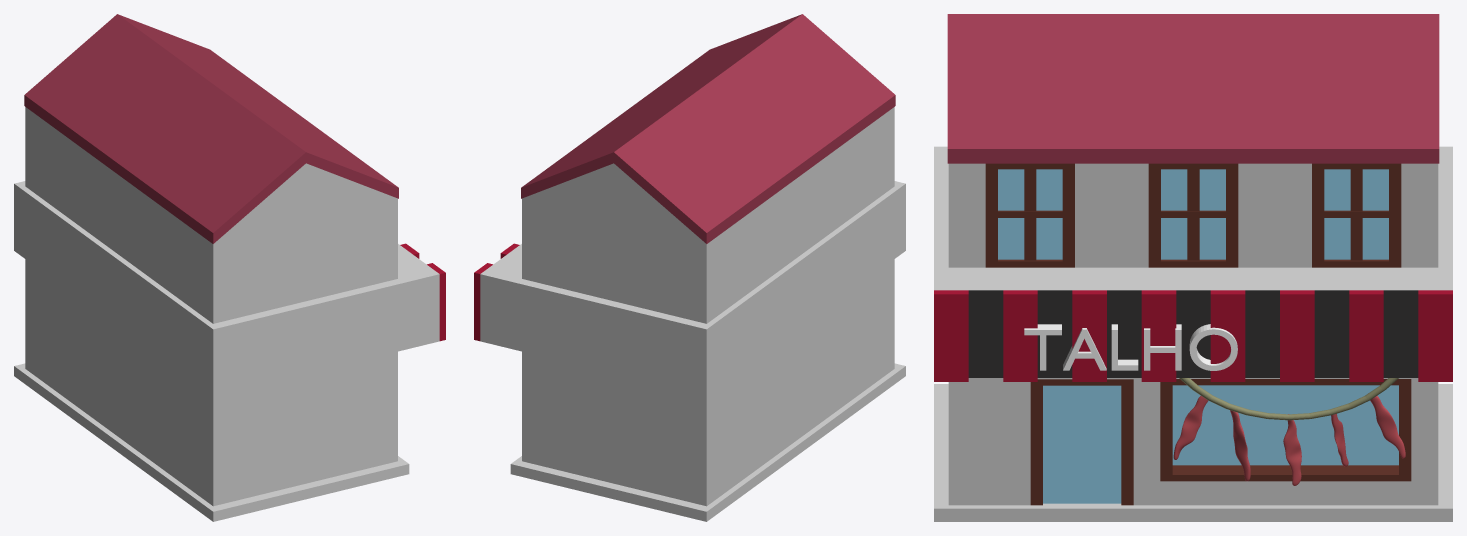
File: talho.fbx
3 renders of one model, left to right at view 1: azimuth 30°, elevation 25°; view 2: azimuth 150°, elevation 25°; view 3: azimuth 270°, elevation 25°, orthographic. The views are drawn at different scales.
Parts seen in each view (by area): view 1: building_002; view 2: building_002; view 3: building_002, Text, Torus, Cube, Cube.004, Cube.001, Cube.002.
Part boxes in pixels (x1=…): building_002: x1=14, y1=14, x2=445, y2=521; building_002: x1=474, y1=14, x2=905, y2=521; building_002: x1=934, y1=14, x2=1452, y2=521; Text: x1=1024, y1=324, x2=1237, y2=370; Torus: x1=1179, y1=378, x2=1398, y2=420; Cube: x1=1173, y1=396, x2=1208, y2=459; Cube.004: x1=1283, y1=414, x2=1301, y2=485; Cube.001: x1=1370, y1=396, x2=1405, y2=458; Cube.002: x1=1230, y1=410, x2=1250, y2=481.
Bounding box in the file's own units: 539 × 749 × 791.
